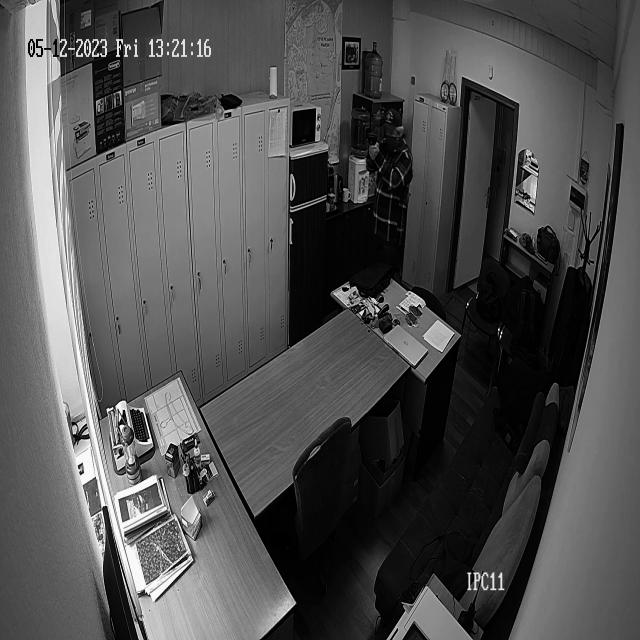gun: (366, 130, 380, 150)
person with a gun: (364, 101, 414, 289)
